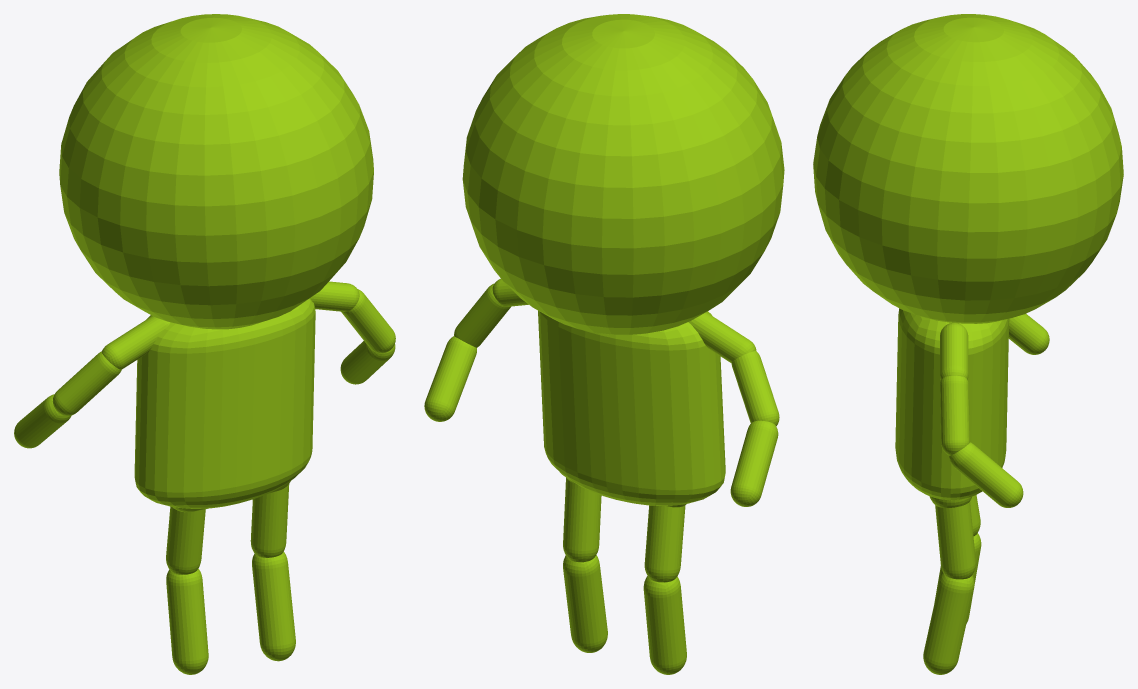
The model's file is Stickman_000095.obj.
3 renders of one model, left to right at view 1: azimuth 30°, elevation 25°; view 2: azimuth 150°, elevation 25°; view 3: azimuth 270°, elevation 25°, orthographic. The views are drawn at different scales.
Parts seen in each view (by area): view 1: Head_Sphere.001, Body_Roundcube.002, LowerLegLeft_Roundcube.013, LowerLegRight_Roundcube.011, UpperLegLeft_Roundcube.012, UpperLegRight_Roundcube.010, UpperArmRight_Roundcube.015, ShoulderRight_Roundcube.014, UpperArmLeft_Roundcube.018, LowerArmRight_Roundcube.016, LowerArmLeft_Roundcube.019, ShoulderLeft_Roundcube.017; view 2: Head_Sphere.001, Body_Roundcube.002, LowerLegRight_Roundcube.011, LowerLegLeft_Roundcube.013, UpperLegRight_Roundcube.010, LowerArmRight_Roundcube.016, UpperLegLeft_Roundcube.012, LowerArmLeft_Roundcube.019, UpperArmRight_Roundcube.015, UpperArmLeft_Roundcube.018, ShoulderRight_Roundcube.014, ShoulderLeft_Roundcube.017; view 3: Head_Sphere.001, Body_Roundcube.002, LowerLegLeft_Roundcube.013, UpperLegLeft_Roundcube.012, LowerArmLeft_Roundcube.019, UpperArmLeft_Roundcube.018, ShoulderLeft_Roundcube.017, LowerArmRight_Roundcube.016.
Part boxes in pixels (x1,y1,x2,y2): Head_Sphere.001: [59, 14, 373, 329]; Body_Roundcube.002: [134, 298, 315, 508]; LowerLegLeft_Roundcube.013: [252, 552, 295, 661]; LowerLegRight_Roundcube.011: [166, 569, 208, 674]; UpperLegLeft_Roundcube.012: [250, 484, 289, 557]; UpperLegRight_Roundcube.010: [166, 506, 205, 574]; UpperArmRight_Roundcube.015: [52, 351, 121, 415]; ShoulderRight_Roundcube.014: [101, 316, 170, 369]; UpperArmLeft_Roundcube.018: [341, 289, 395, 353]; LowerArmRight_Roundcube.016: [14, 394, 71, 448]; LowerArmLeft_Roundcube.019: [340, 341, 395, 384]; ShoulderLeft_Roundcube.017: [310, 281, 359, 311]; Head_Sphere.001: [462, 14, 784, 335]; Body_Roundcube.002: [538, 310, 725, 505]; LowerLegRight_Roundcube.011: [643, 576, 686, 674]; LowerLegLeft_Roundcube.013: [563, 555, 607, 652]; UpperLegRight_Roundcube.010: [644, 505, 685, 582]; LowerArmRight_Roundcube.016: [730, 420, 778, 506]; UpperLegLeft_Roundcube.012: [563, 477, 601, 562]; LowerArmLeft_Roundcube.019: [424, 336, 476, 421]; UpperArmRight_Roundcube.015: [731, 351, 779, 426]; UpperArmLeft_Roundcube.018: [454, 283, 510, 347]; ShoulderRight_Roundcube.014: [688, 312, 756, 363]; ShoulderLeft_Roundcube.017: [492, 278, 528, 306]; Head_Sphere.001: [813, 14, 1123, 323]; Body_Roundcube.002: [895, 308, 1009, 500]; LowerLegLeft_Roundcube.013: [923, 573, 974, 674]; UpperLegLeft_Roundcube.012: [935, 501, 975, 579]; LowerArmLeft_Roundcube.019: [949, 442, 1023, 507]; UpperArmLeft_Roundcube.018: [940, 375, 969, 455]; ShoulderLeft_Roundcube.017: [940, 322, 968, 379]; LowerArmRight_Roundcube.016: [1008, 314, 1049, 354].
Bounding box in the file's own units: 7.71 × 13.65 × 6.18.
